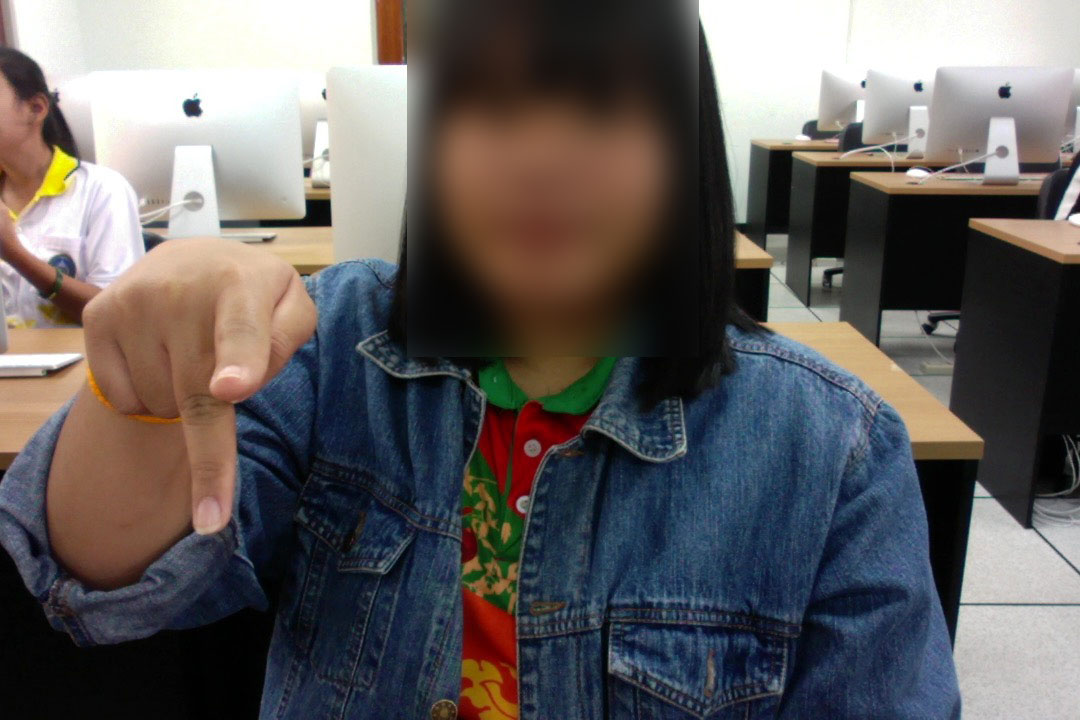por: (72, 225, 325, 540)
